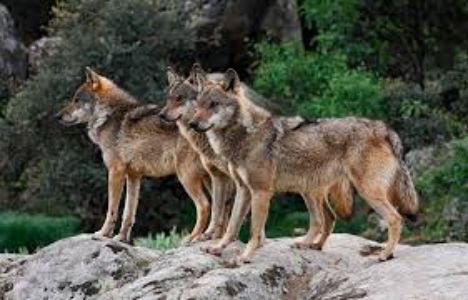wolf: (192, 73, 438, 262), (52, 61, 158, 251), (159, 58, 208, 178)
